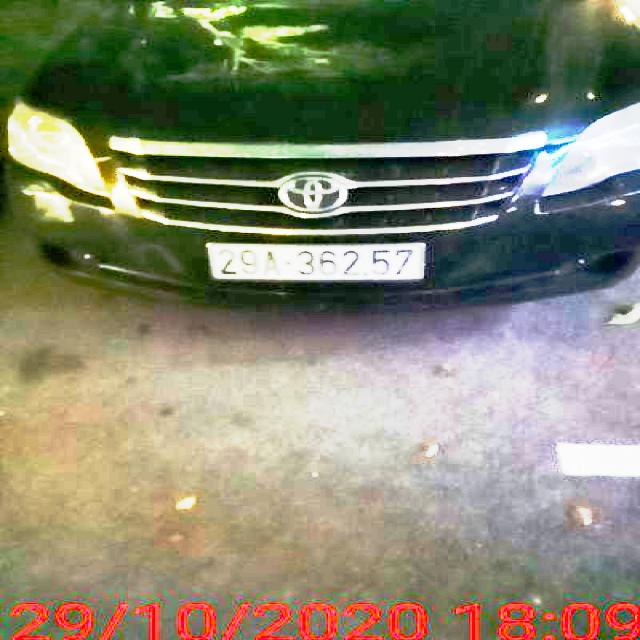license_plate: (210, 245, 426, 279)
